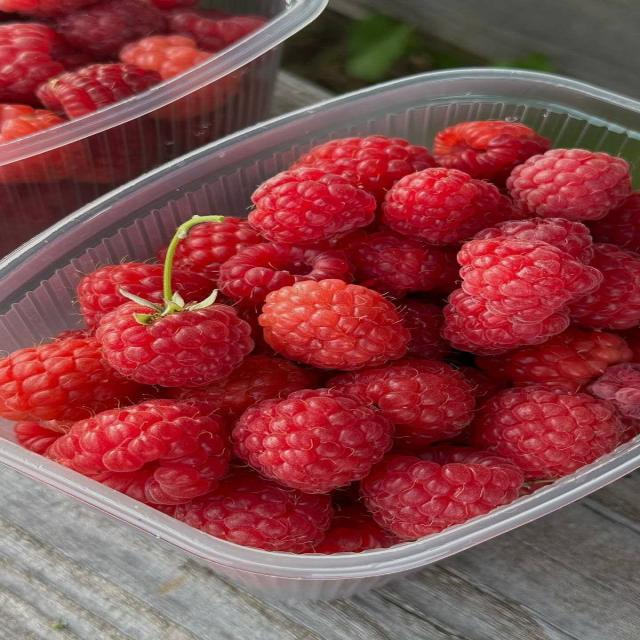raspberry: (48, 400, 231, 503), (232, 389, 393, 492), (361, 445, 522, 539), (472, 387, 621, 479), (259, 280, 409, 369), (96, 302, 253, 386), (175, 471, 333, 553), (328, 359, 474, 447), (458, 237, 601, 322), (0, 338, 141, 420), (383, 168, 518, 244), (0, 152, 97, 255), (477, 328, 631, 392), (249, 168, 375, 243), (171, 355, 317, 419), (292, 135, 435, 200), (507, 149, 631, 219), (443, 289, 569, 354), (219, 243, 351, 305), (433, 121, 550, 183), (37, 64, 160, 117), (56, 0, 167, 58), (349, 231, 446, 297), (74, 119, 164, 185), (570, 244, 639, 329), (174, 217, 263, 279), (78, 263, 162, 327), (475, 218, 592, 263), (0, 23, 63, 103), (314, 503, 399, 554), (169, 9, 266, 52), (120, 35, 212, 79), (120, 35, 210, 79), (0, 142, 87, 183), (397, 299, 450, 360), (589, 191, 639, 251), (588, 363, 639, 418), (236, 305, 275, 355), (459, 366, 507, 405), (0, 0, 95, 17), (51, 34, 94, 70), (14, 422, 62, 454), (432, 247, 461, 295), (617, 327, 639, 362), (618, 413, 639, 443), (53, 329, 90, 342), (151, 0, 197, 10)
